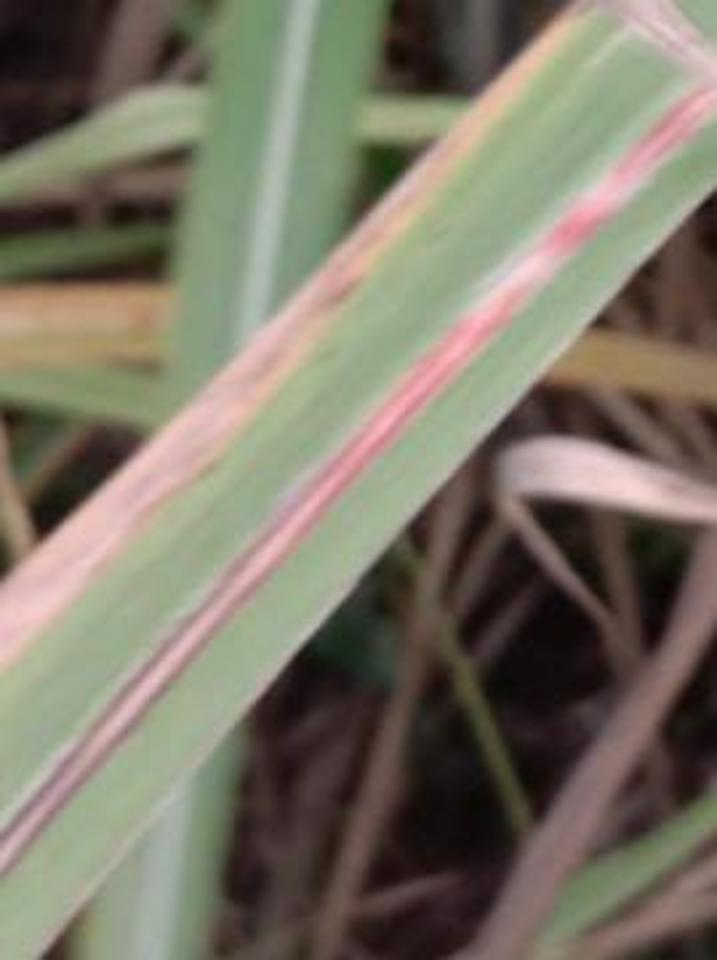RedRot: (0, 75, 715, 893)
Yellow: (0, 0, 591, 673)
